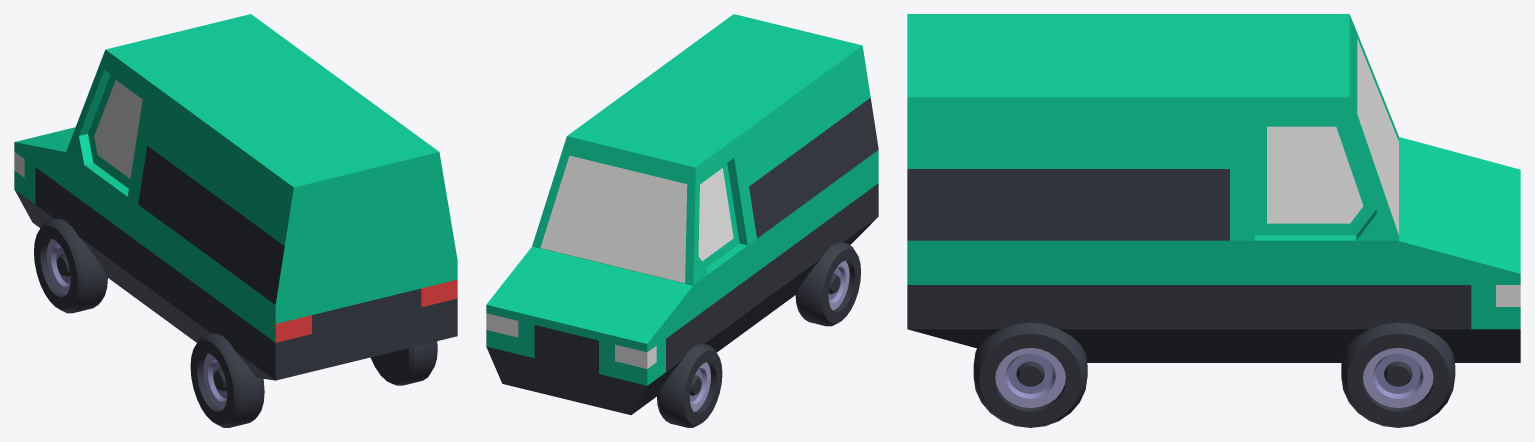
The model's file is Van_01.fbx.
The picture shows the model from 3 angles, left to right: view 1: azimuth 30°, elevation 25°; view 2: azimuth 150°, elevation 25°; view 3: azimuth 270°, elevation 25°; orthographic projection. The views are drawn at different scales.
Visible parts, largest first — view 1: mergedBlocks; view 2: mergedBlocks; view 3: mergedBlocks.
Boxes of the visible parts, x1,y1,x2,y2 form: mergedBlocks: (14, 14, 457, 427); mergedBlocks: (486, 14, 878, 427); mergedBlocks: (907, 14, 1520, 427).
Bounding box in the file's own units: 32.54 × 41.21 × 72.32.
